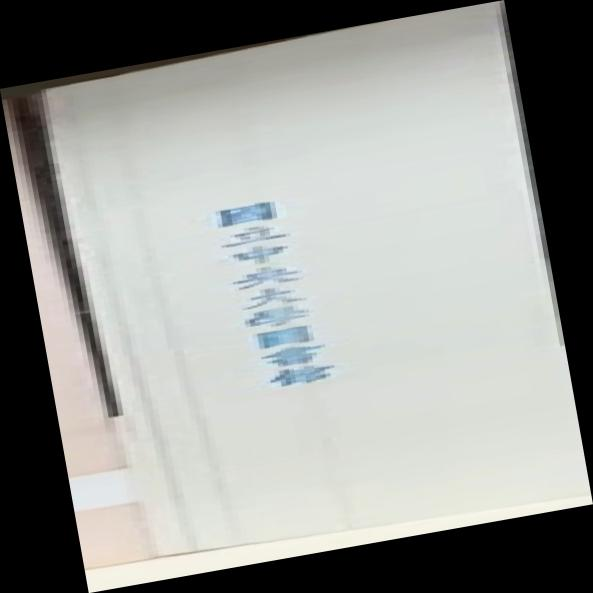backward: (1, 1, 593, 593)
